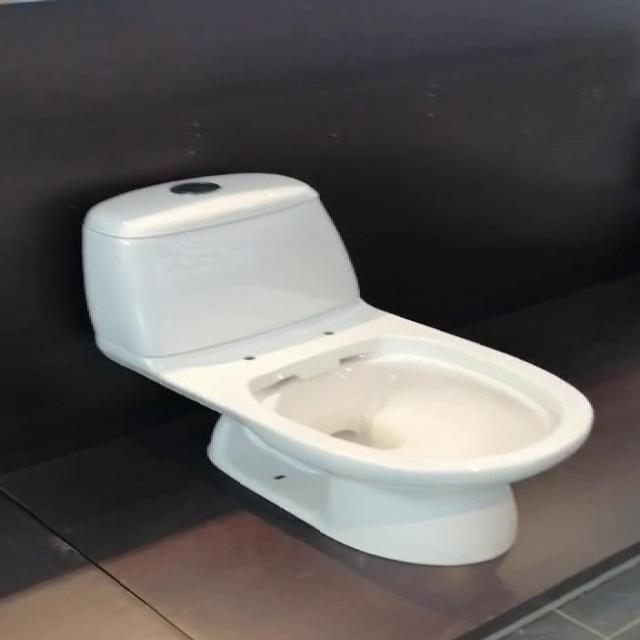toilet: (80, 171, 595, 566)
